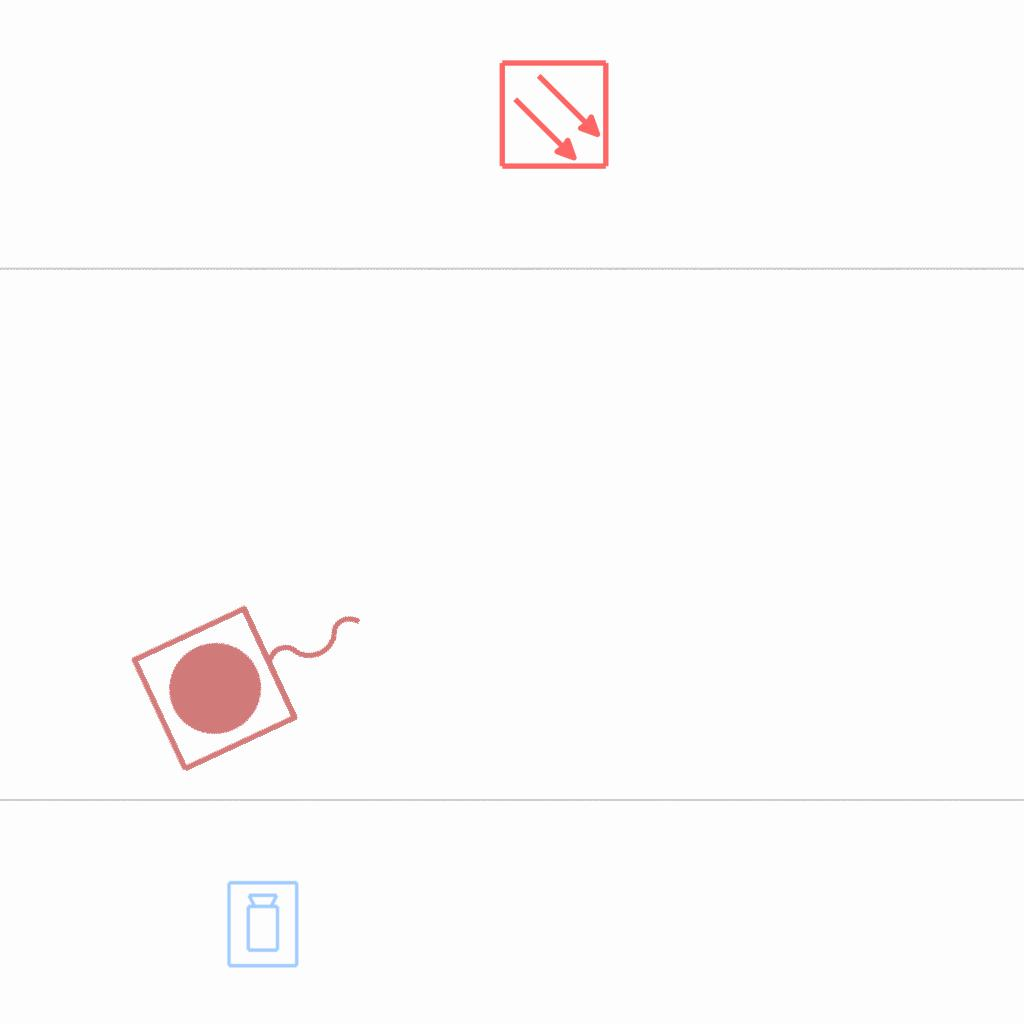KFO_Kamera_mit_Festobjektiv: (225, 879, 302, 970)
RMO_Rauchmelder_optischer: (498, 58, 611, 171)
Zugtaster: (120, 552, 402, 786)
